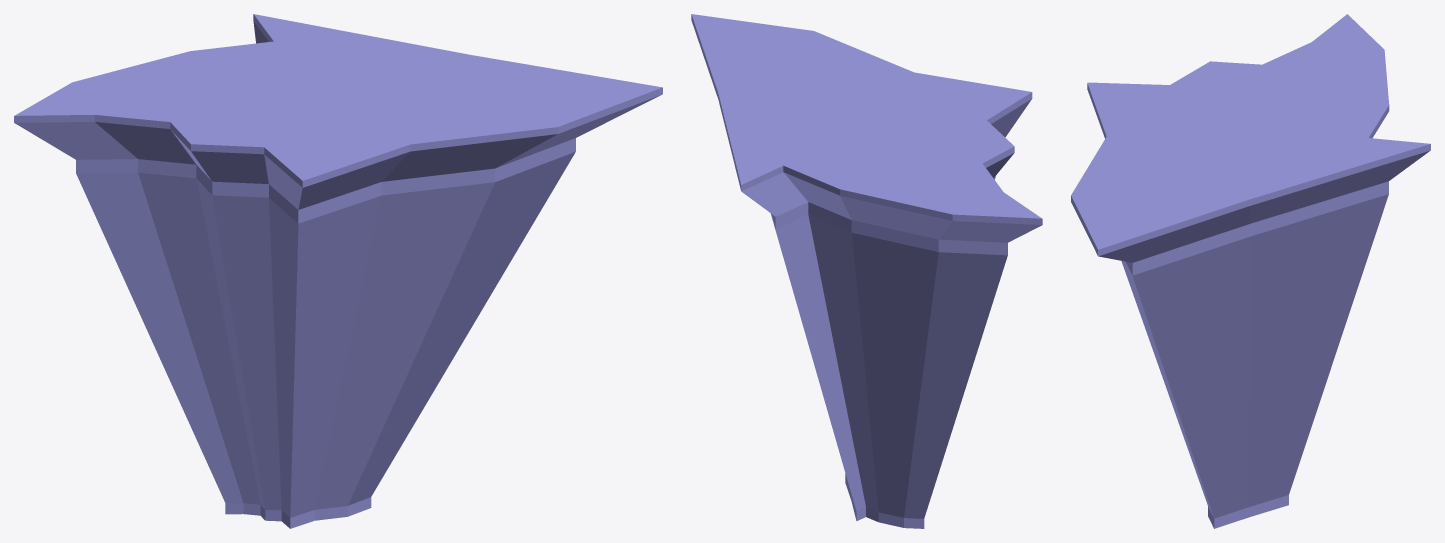
Rendered from Gangwon.obj.
The picture shows the model from 3 angles, left to right: view 1: azimuth 30°, elevation 25°; view 2: azimuth 150°, elevation 25°; view 3: azimuth 270°, elevation 25°; orthographic projection. The views are drawn at different scales.
Parts seen in each view (by area): view 1: Gangwon; view 2: Gangwon; view 3: Gangwon.
Part boxes in pixels (bbox=[...]): Gangwon: bbox=[14, 14, 662, 528]; Gangwon: bbox=[691, 14, 1042, 528]; Gangwon: bbox=[1071, 14, 1430, 528].
Bounding box in the file's own units: 65.97 × 50.1 × 42.54.
